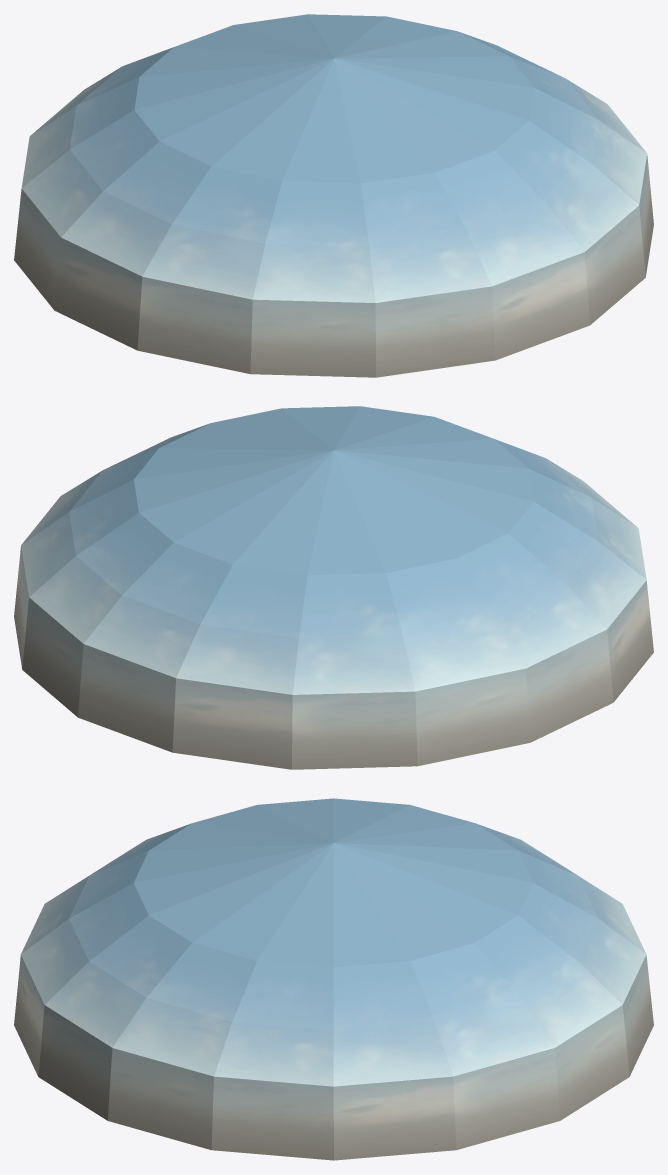
The picture shows the model from 3 angles, top to bottom: view 1: azimuth 30°, elevation 25°; view 2: azimuth 150°, elevation 25°; view 3: azimuth 270°, elevation 25°; orthographic projection.
Parts seen in each view (by area): view 1: mesh00; view 2: mesh00; view 3: mesh00.
Part boxes in pixels (x1,y1,x2,y2): mesh00: [14, 14, 653, 377]; mesh00: [14, 406, 653, 769]; mesh00: [14, 798, 653, 1160].
Size of the model in its own units: 99827 by 31382 by 99827.
